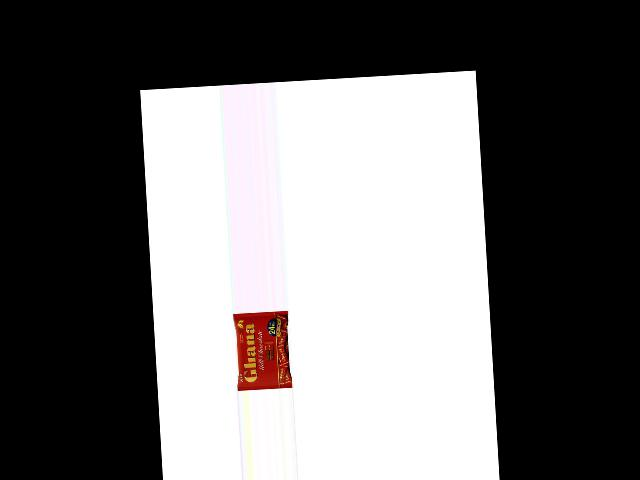chocolate: (234, 309, 294, 389)
